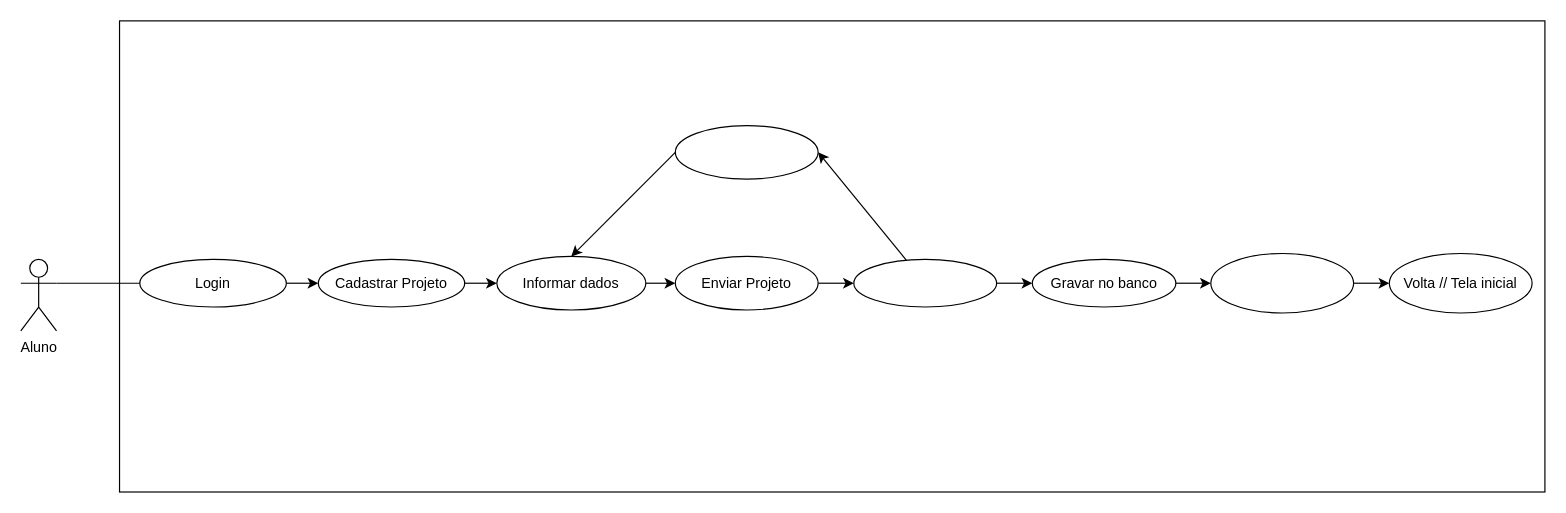
Some shapes in this 1566 by 513 pixel diagram are drawn without their labels. Here are the shapes that lost their labels. From the top down, the centre of each, then its label:
the point at 746,151: Dados inválidos
the point at 925,282: Validar dados
the point at 1282,282: Mensagem de confirmação
